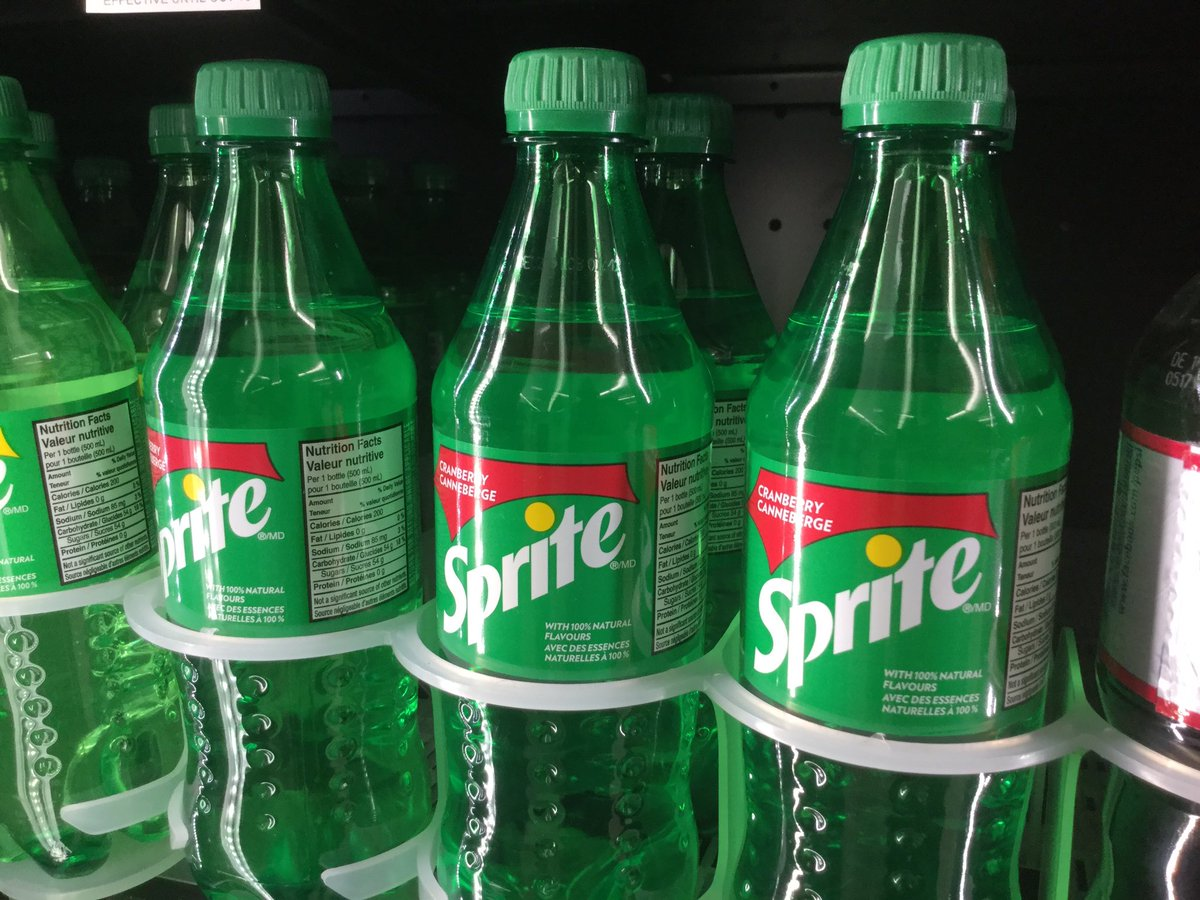Sprite: (748, 76, 1037, 897), (141, 75, 422, 878), (423, 87, 704, 889)
